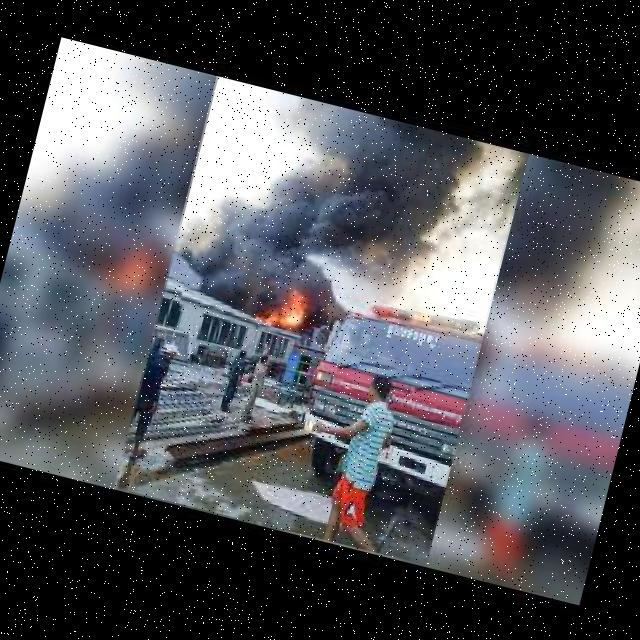fire: (178, 80, 396, 350)
